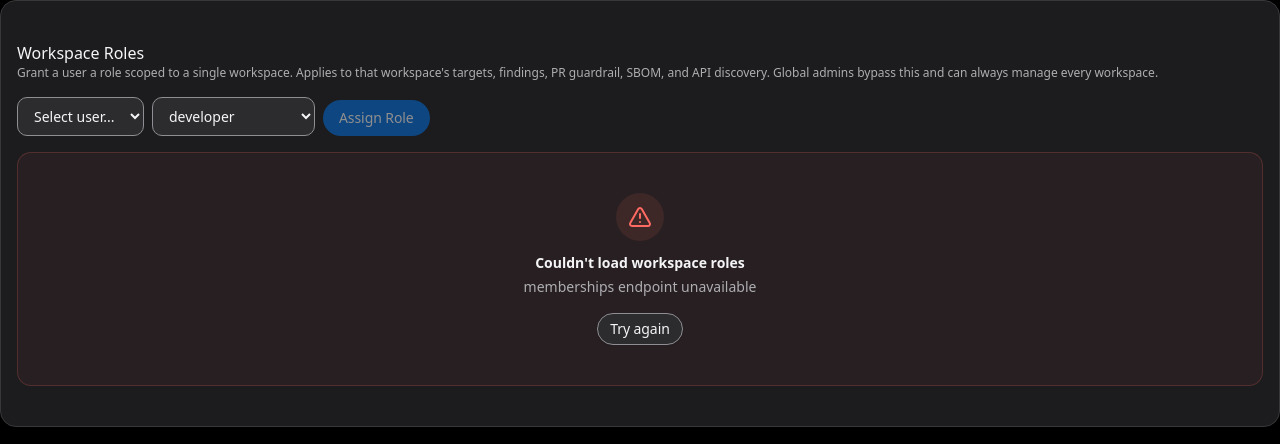
WorkspaceRoles, a read that failed vs a workspace with no assignments › offers a retry that re-runs the read and shows the assignments it returns
What coordinates should you click on to do the following:
click the button "Try again"
I would click on:
 (640, 329)
Its box is [597,313,683,345].
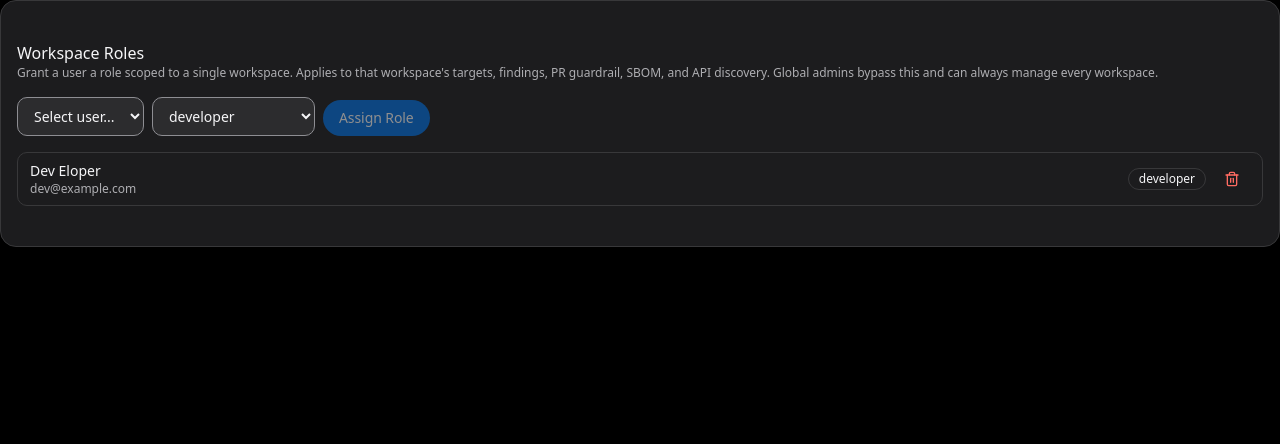
Check: the text "Dev Eloper" is shown, box [30,161,101,180]
Check: the text "Couldn't load workspace roles" is gone
